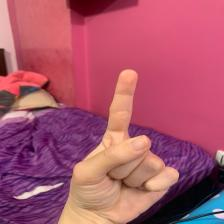one: (76, 68, 180, 215)
